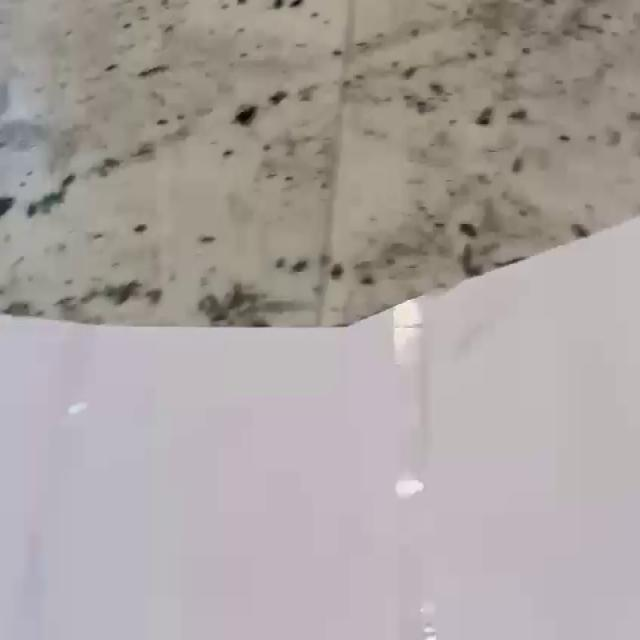road: (0, 215, 640, 640)
